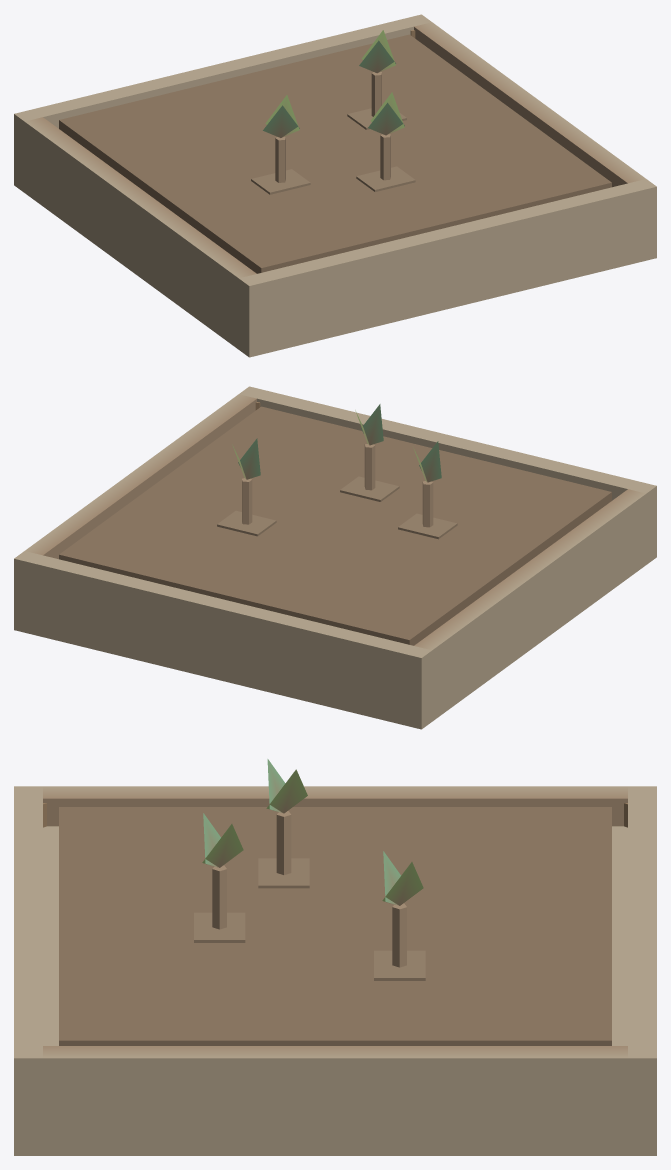
File: cafe_siembra_near.glb
3 views of the same model, one above another, from view 1: azimuth 30°, elevation 25°; view 2: azimuth 150°, elevation 25°; view 3: azimuth 270°, elevation 25° (orthographic). The views are drawn at different scales.
Parts seen in each view (by area): view 1: model; view 2: model; view 3: model.
Part boxes in pixels (x1,y1,x2,y2): model: [14, 14, 656, 357]; model: [14, 386, 656, 729]; model: [14, 759, 656, 1155].
Size of the model in its own units: 1 by 0.3603 by 1.
